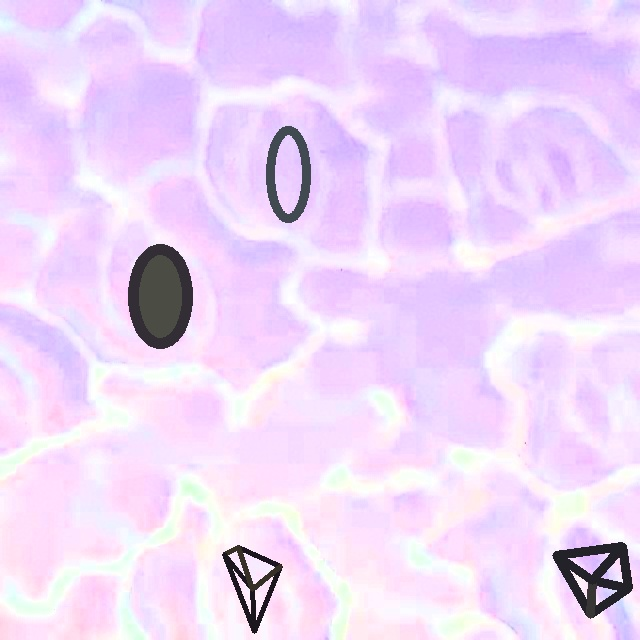close: (222, 545, 282, 633), (265, 125, 310, 223)
open: (128, 245, 193, 347), (552, 542, 631, 618)
